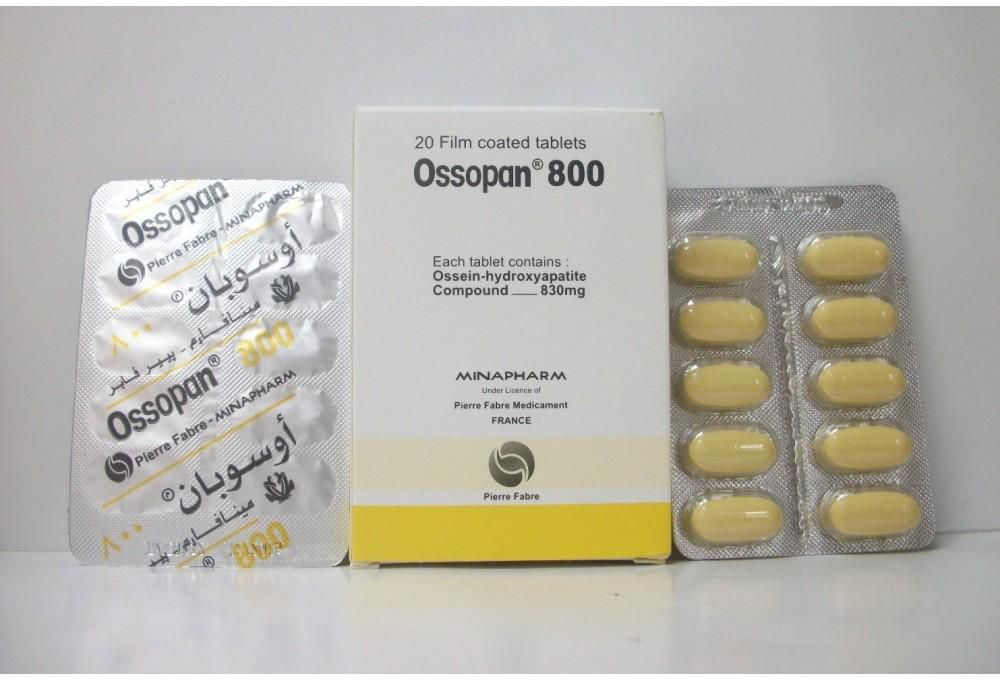Medicine: (350, 102, 672, 562), (74, 170, 346, 570)
